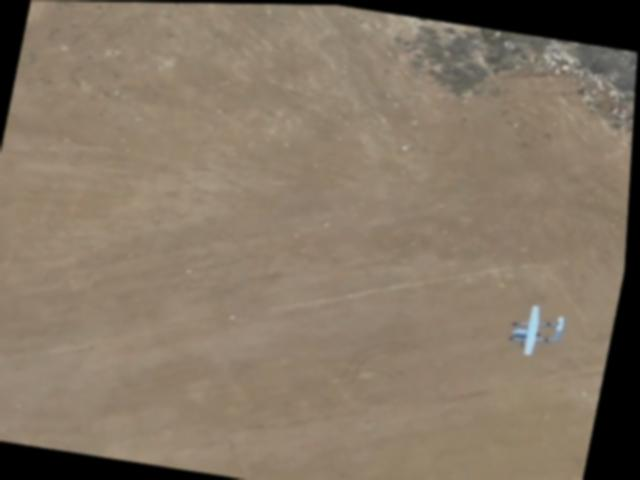plane: (511, 301, 571, 357)
